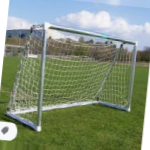goals: (7, 21, 139, 131)
